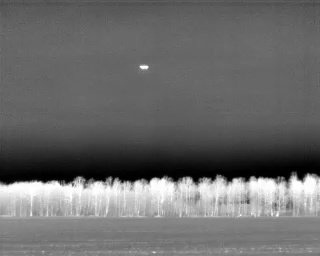DRONE: (136, 61, 153, 75)
